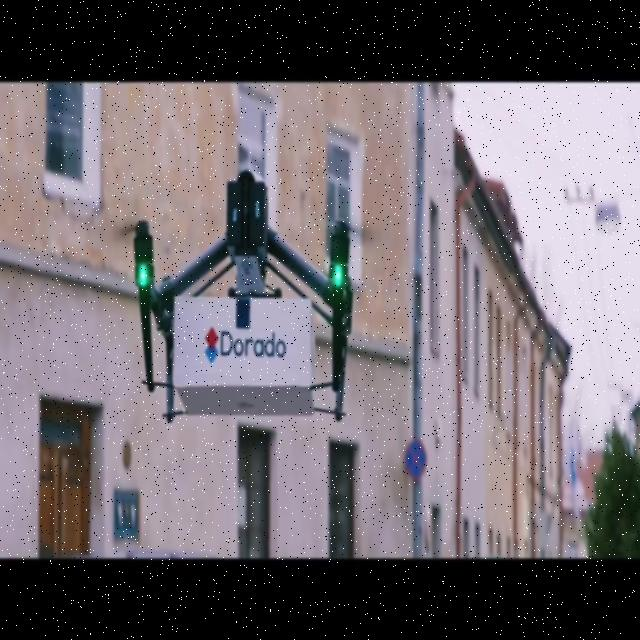UAV: (122, 169, 354, 423)
